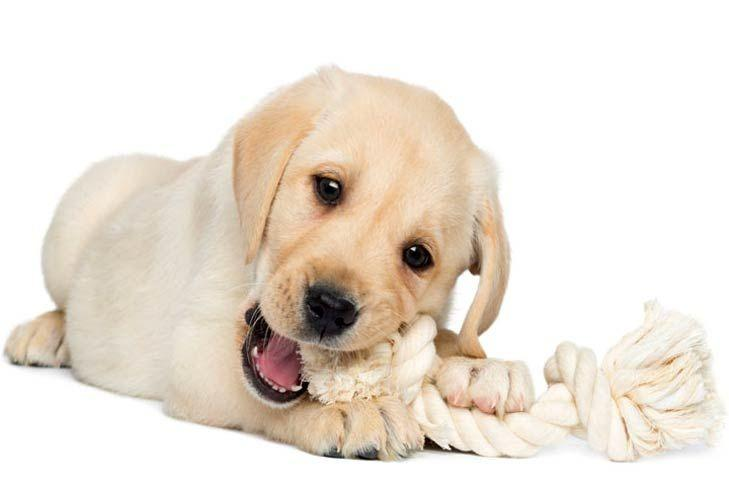puppy-dog: (4, 65, 535, 465)
